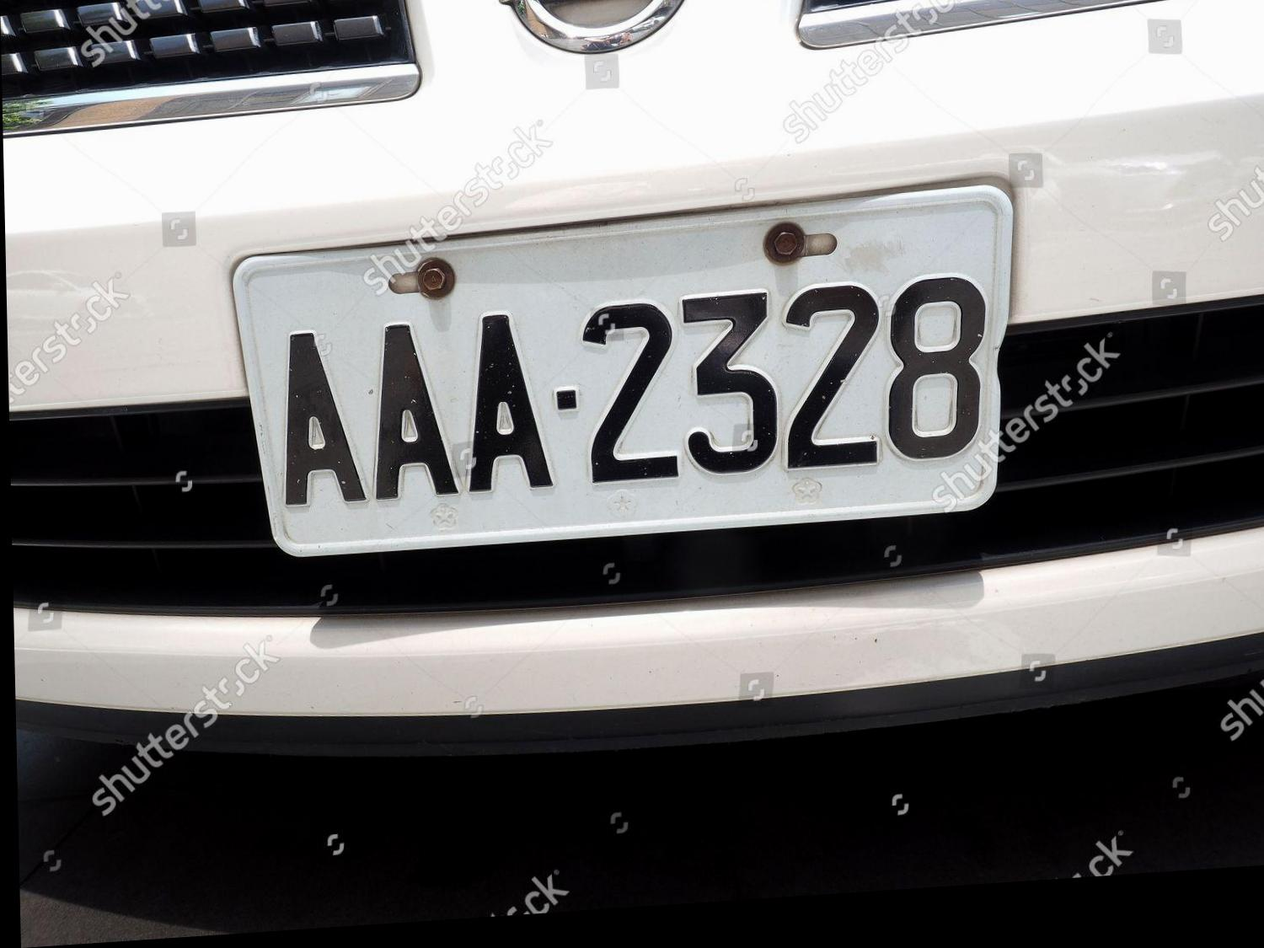License_Plate: (223, 180, 1023, 553)
